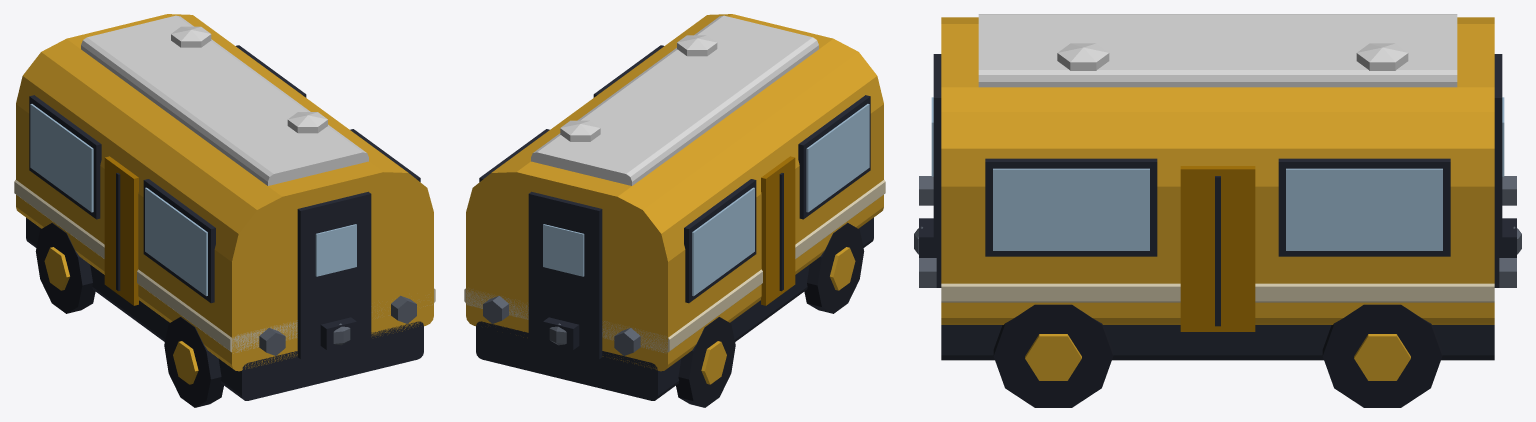
File: train_car_yellow.glb
The picture shows the model from 3 angles, left to right: view 1: azimuth 30°, elevation 25°; view 2: azimuth 150°, elevation 25°; view 3: azimuth 270°, elevation 25°; orthographic projection. The views are drawn at different scales.
Visible parts, largest first — view 1: train_car_yellow; view 2: train_car_yellow; view 3: train_car_yellow.
Part boxes in pixels (x1=…): train_car_yellow: x1=14, y1=14, x2=435, y2=407; train_car_yellow: x1=464, y1=14, x2=885, y2=407; train_car_yellow: x1=914, y1=14, x2=1521, y2=407.
Bounding box in the file's own units: 2.13 × 2.33 × 4.06.
